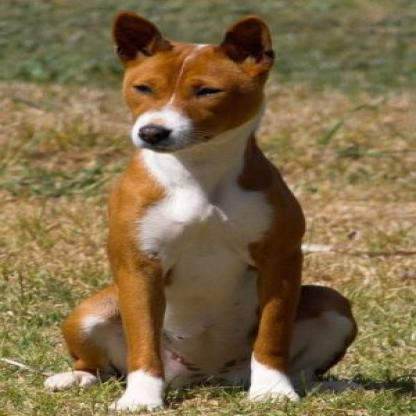basenji: (37, 7, 358, 410)
